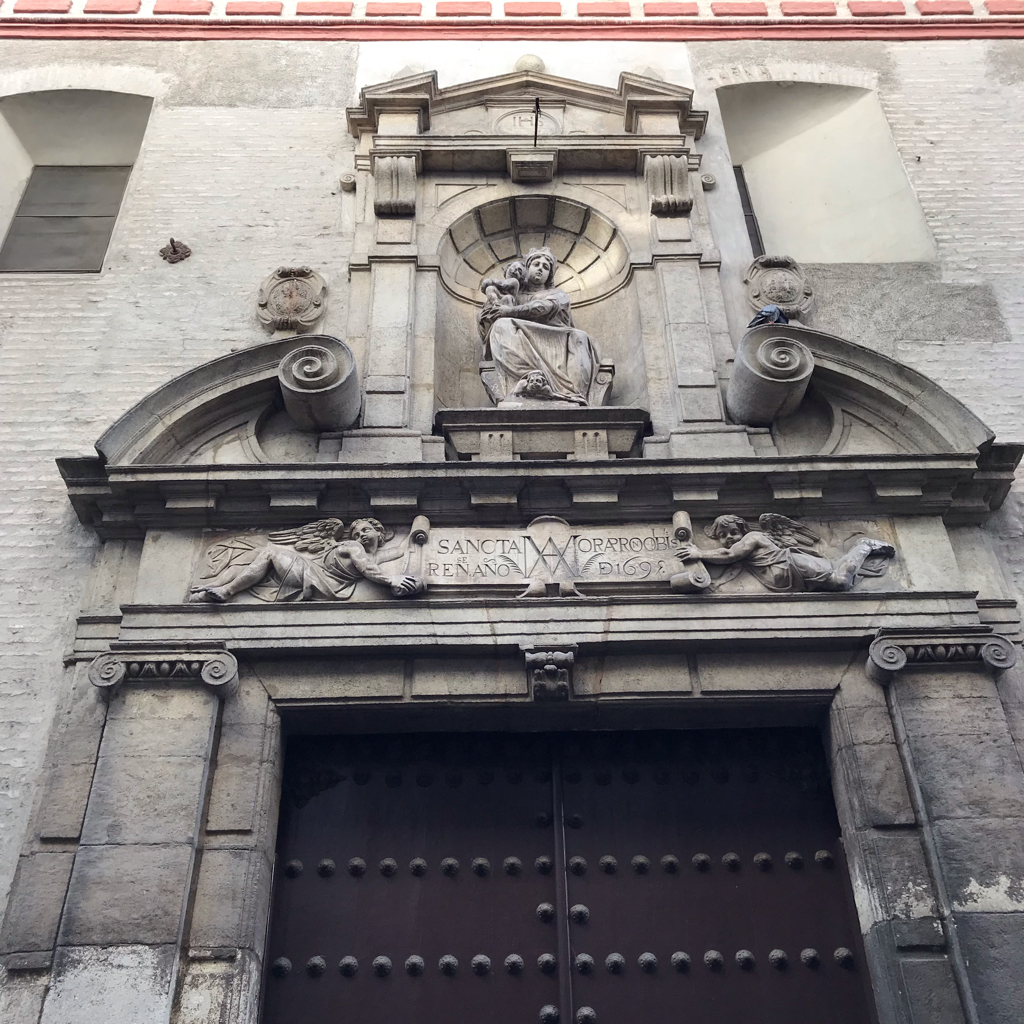arco-medio-punto: (426, 192, 646, 285)
fronton-partido: (72, 317, 1015, 502), (375, 66, 698, 145)
